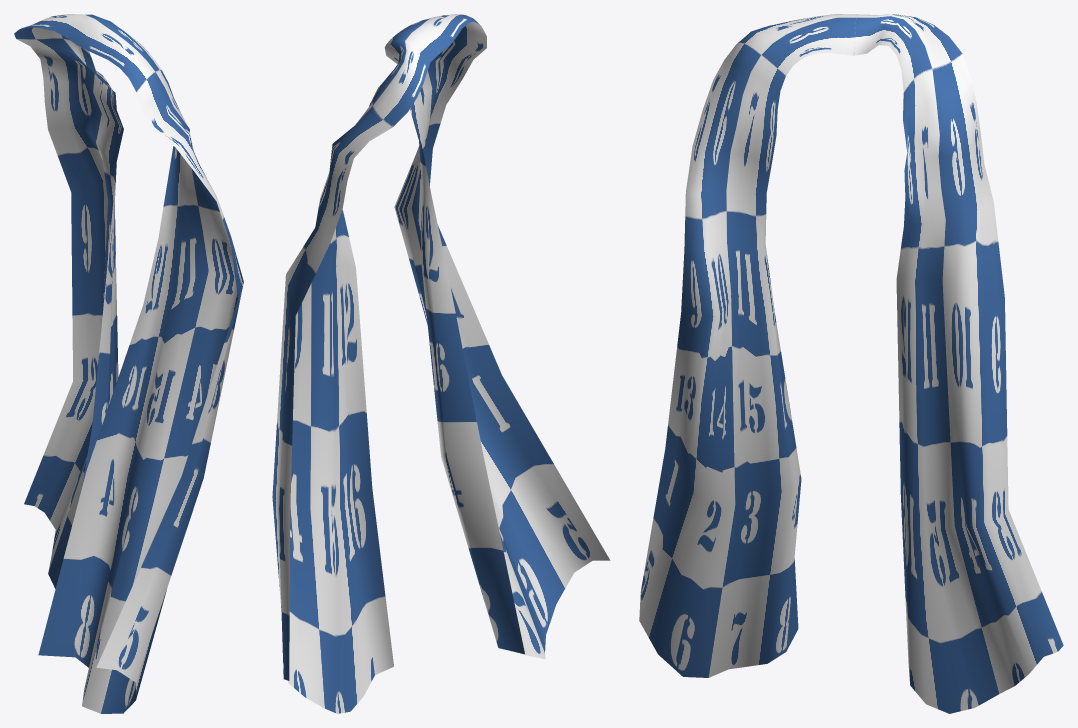
File: NeWind3.fbx
The picture shows the model from 3 angles, left to right: view 1: azimuth 30°, elevation 25°; view 2: azimuth 150°, elevation 25°; view 3: azimuth 270°, elevation 25°; orthographic projection. The views are drawn at different scales.
Visible parts, largest first — view 1: SM_e_Plc_P0002_Wind005; view 2: SM_e_Plc_P0002_Wind005; view 3: SM_e_Plc_P0002_Wind005.
Boxes of the visible parts, x1,y1,x2,y2 form: SM_e_Plc_P0002_Wind005: (14, 14, 243, 713); SM_e_Plc_P0002_Wind005: (272, 14, 610, 713); SM_e_Plc_P0002_Wind005: (639, 14, 1063, 713).
Size of the model in its own units: 7.29 by 24.93 by 13.83.
